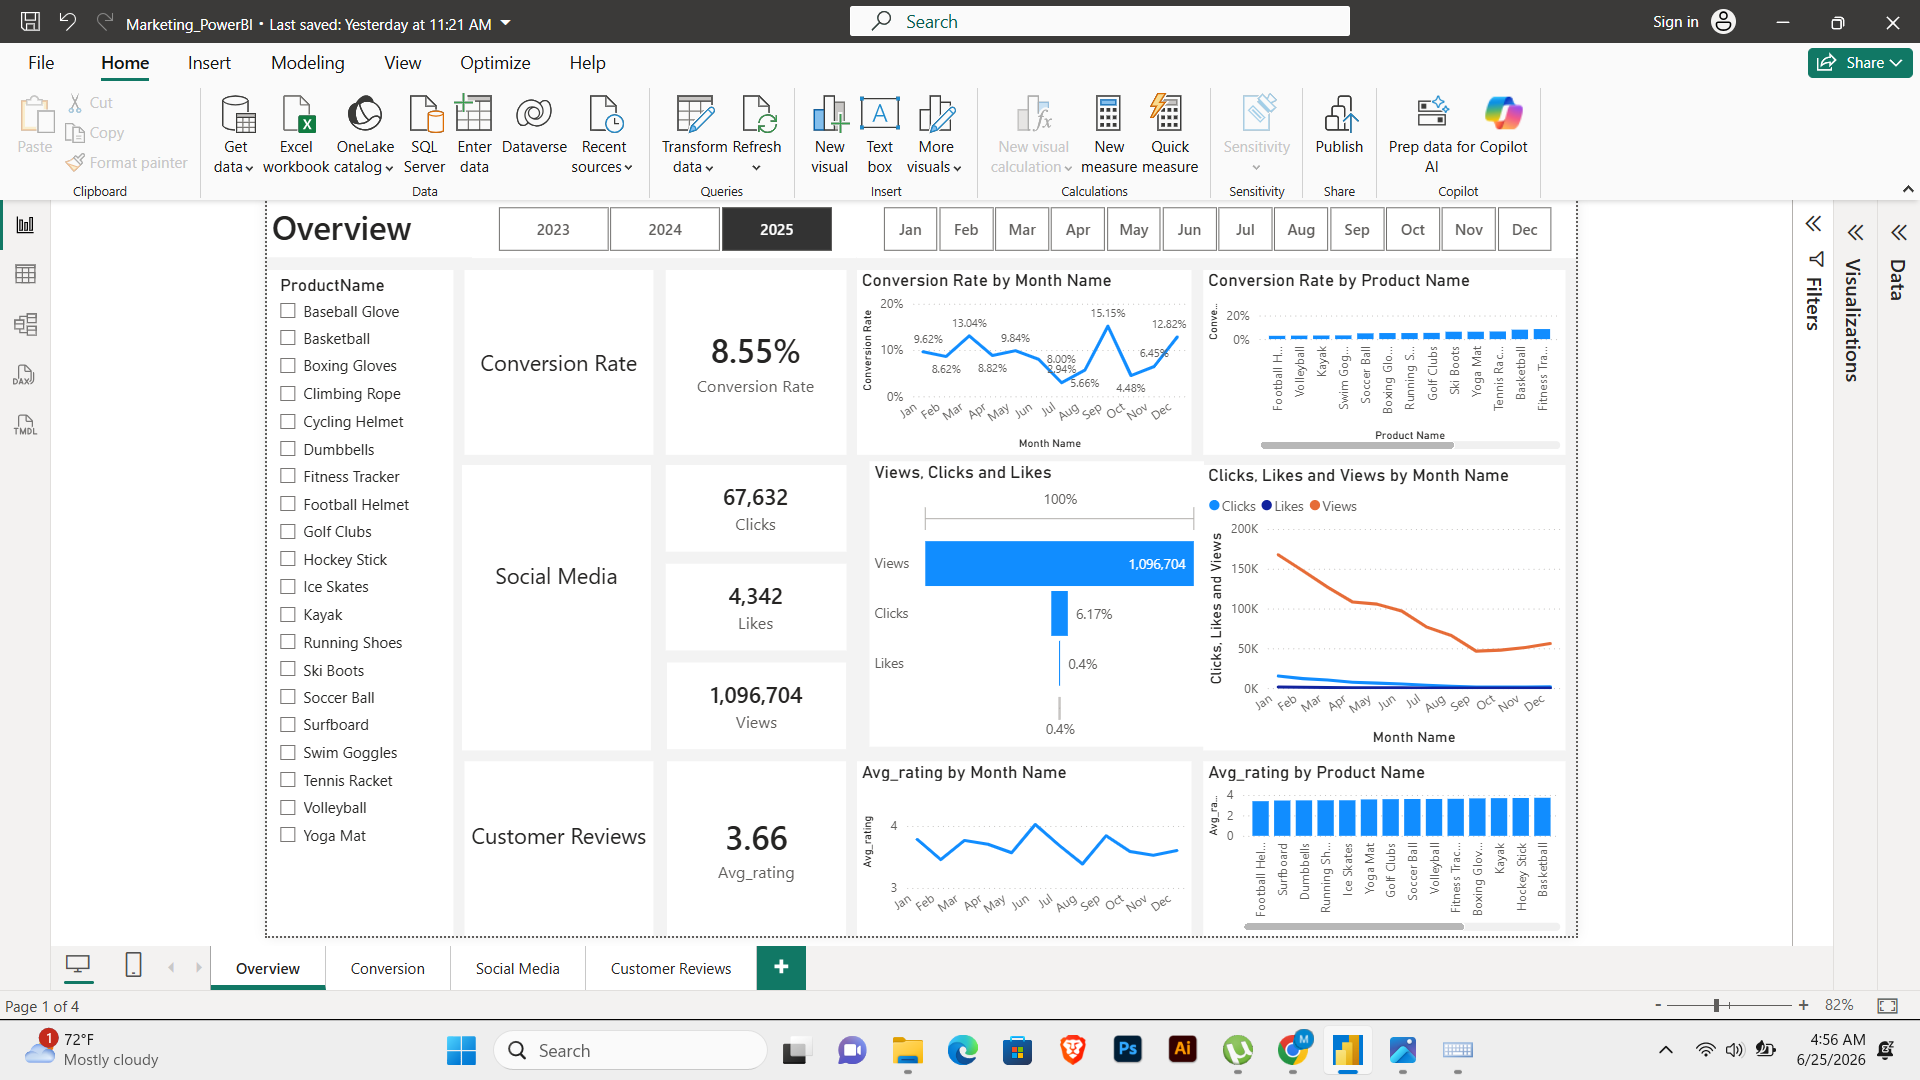

The page's visual inventory and layout, read from the dashboard file:
{"tool":"powerbi","page":{"name":"Overview","canvas":[1280,720],"ordinal":0},"visuals":[{"type":"textbox","box":[0,0,1280.3,56.3],"z":0},{"type":"slicer","fields":{"Values":["dim_products.ProductName"]},"box":[0,68.5,182.2,651.8],"z":1000},{"type":"slicer","fields":{"Values":["Calendar.Year"]},"box":[200.8,0,376,56.6],"z":2000},{"type":"slicer","fields":{"Values":["Calendar.MonthNameShort"]},"box":[576.8,0,703.5,56.6],"z":3000},{"type":"textbox","box":[192.7,68.7,184.6,180.6],"z":4000},{"type":"textbox","box":[191.4,258.8,184.6,279],"z":5000},{"type":"textbox","box":[192.7,548.5,184.6,171.2],"z":6000},{"type":"cardVisual","fields":{"Data":["_Calculations.Conversion Rate"]},"box":[389.5,68.7,176.5,180.6],"z":7000},{"type":"cardVisual","fields":{"Data":["_Calculations.Clicks"]},"box":[389.5,258.8,176.5,84.9],"z":8000},{"type":"cardVisual","fields":{"Data":["_Calculations.Likes"]},"box":[389.5,355.8,176.5,84.9],"z":9000},{"type":"cardVisual","fields":{"Data":["_Calculations.Views"]},"box":[390.8,452.8,175.2,84.9],"z":10000},{"type":"cardVisual","fields":{"Data":["_Calculations.Avg_rating"]},"box":[390.8,548.5,175.2,171.2],"z":11000},{"type":"lineChart","fields":{"Y":["_Calculations.Conversion Rate"],"Category":["Calendar.MonthNameShort"]},"box":[576.8,68.7,327.5,180.6],"z":12000},{"type":"clusteredColumnChart","fields":{"Category":["dim_products.ProductName"],"Y":["_Calculations.Conversion Rate"]},"box":[916.4,68.7,354.4,180.6],"z":13000},{"type":"lineChart","fields":{"Category":["Calendar.MonthNameShort"],"Y":["_Calculations.Clicks","_Calculations.Likes","_Calculations.Views"]},"box":[916.4,258.8,354.4,279],"z":14000},{"type":"funnel","fields":{"Y":["_Calculations.Views","_Calculations.Clicks","_Calculations.Likes"]},"box":[588.9,256.1,327.5,279],"z":15000},{"type":"lineChart","fields":{"Y":["_Calculations.Avg_rating"],"Category":["Calendar.MonthNameShort"]},"box":[576.8,548.5,327.5,171.2],"z":16000},{"type":"clusteredColumnChart","fields":{"Category":["dim_products.ProductName"],"Y":["_Calculations.Avg_rating"]},"box":[916.4,548.5,354.4,171.2],"z":17000}]}

Visuals, with their boxes on the page's 1280x720 design canvas (x1, y1, x2, y2). These are canvas units, not pixel positions in the 1920x1080 screenshot, which may show the page scaled, cropped or inside an application window:
textbox: [left=0, top=0, right=1280, bottom=56]
slicer - dim_products.ProductName: [left=0, top=68, right=182, bottom=720]
slicer - Calendar.Year: [left=201, top=0, right=577, bottom=57]
slicer - Calendar.MonthNameShort: [left=577, top=0, right=1280, bottom=57]
textbox: [left=193, top=69, right=377, bottom=249]
textbox: [left=191, top=259, right=376, bottom=538]
textbox: [left=193, top=548, right=377, bottom=720]
cardVisual - _Calculations.Conversion Rate: [left=390, top=69, right=566, bottom=249]
cardVisual - _Calculations.Clicks: [left=390, top=259, right=566, bottom=344]
cardVisual - _Calculations.Likes: [left=390, top=356, right=566, bottom=441]
cardVisual - _Calculations.Views: [left=391, top=453, right=566, bottom=538]
cardVisual - _Calculations.Avg_rating: [left=391, top=548, right=566, bottom=720]
lineChart - _Calculations.Conversion Rate x Calendar.MonthNameShort: [left=577, top=69, right=904, bottom=249]
clusteredColumnChart - dim_products.ProductName x _Calculations.Conversion Rate: [left=916, top=69, right=1271, bottom=249]
lineChart - Calendar.MonthNameShort x _Calculations.Clicks: [left=916, top=259, right=1271, bottom=538]
funnel - _Calculations.Views x _Calculations.Clicks: [left=589, top=256, right=916, bottom=535]
lineChart - _Calculations.Avg_rating x Calendar.MonthNameShort: [left=577, top=548, right=904, bottom=720]
clusteredColumnChart - dim_products.ProductName x _Calculations.Avg_rating: [left=916, top=548, right=1271, bottom=720]
